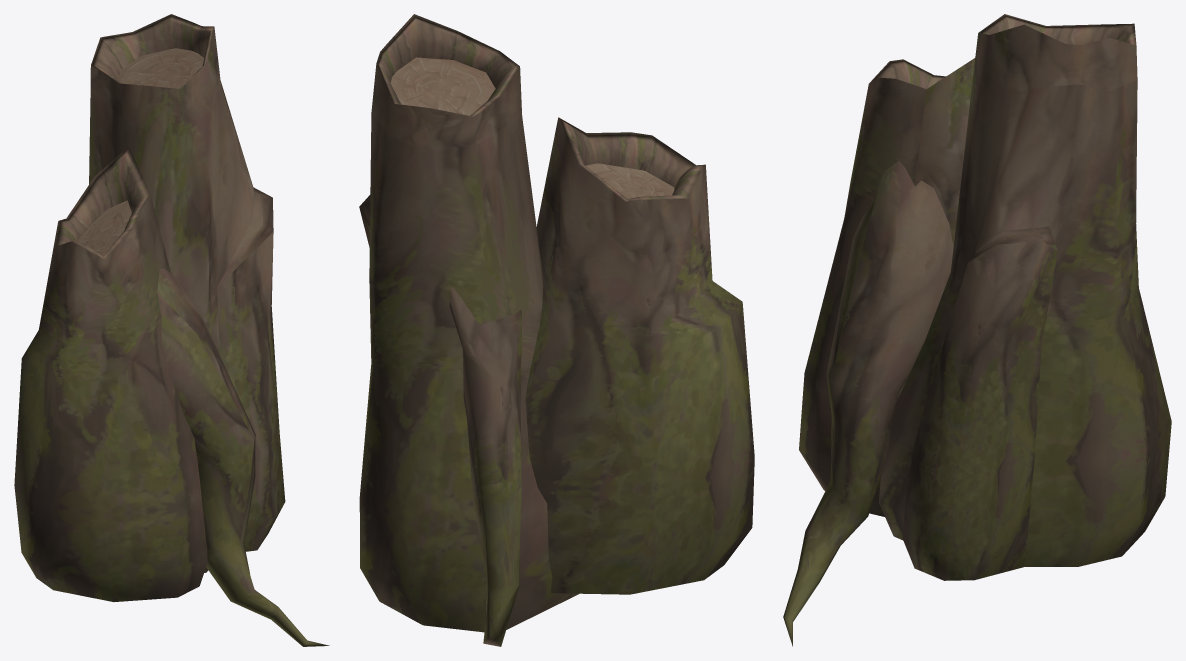
The model's file is SM_EastLands_Osmanthus_02_Stump.fbx.
3 renders of one model, left to right at view 1: azimuth 30°, elevation 25°; view 2: azimuth 150°, elevation 25°; view 3: azimuth 270°, elevation 25°, orthographic. The views are drawn at different scales.
Visible parts, largest first — view 1: SM_EastLands_Osmanthus_02_Stump_LOD0; view 2: SM_EastLands_Osmanthus_02_Stump_LOD0; view 3: SM_EastLands_Osmanthus_02_Stump_LOD0.
Part boxes in pixels (<box>): SM_EastLands_Osmanthus_02_Stump_LOD0: <box>14,14,329,646</box>; SM_EastLands_Osmanthus_02_Stump_LOD0: <box>359,14,754,646</box>; SM_EastLands_Osmanthus_02_Stump_LOD0: <box>783,14,1171,646</box>.
Size of the model in its own units: 119 by 218 by 125.
